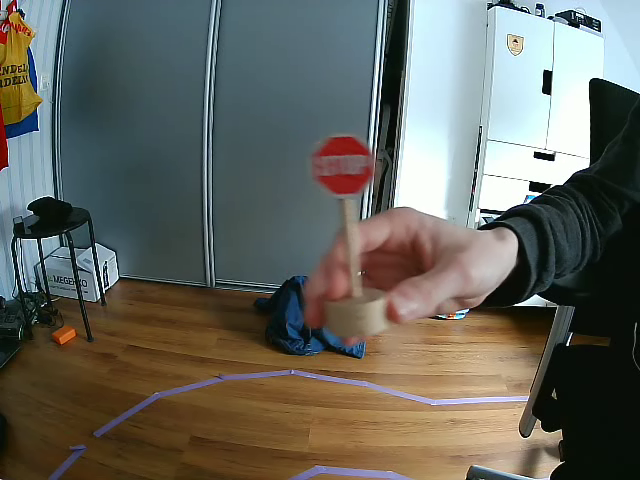stopbord: (310, 133, 373, 194)
